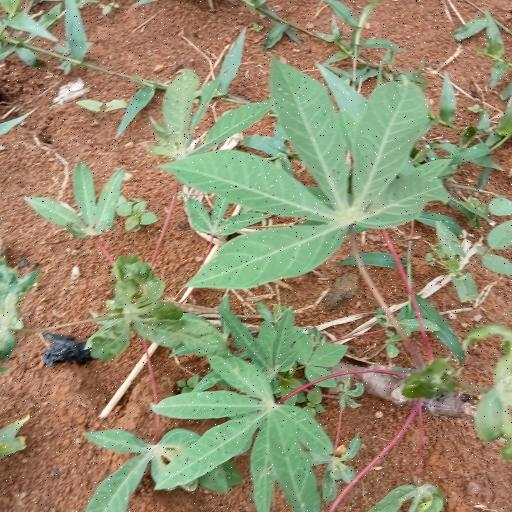Cassava_Mosaic: (170, 56, 454, 294), (159, 364, 335, 499)
